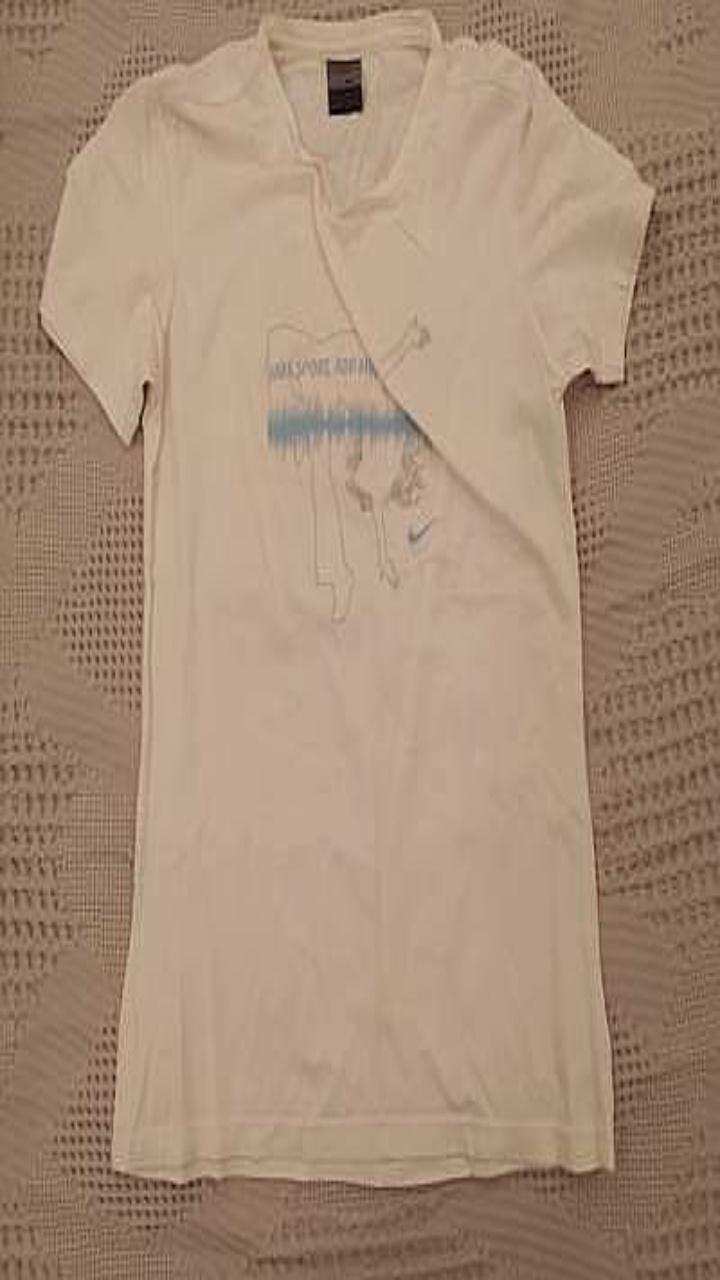T-Shirt: (40, 8, 654, 1184)
